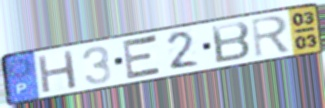2: (165, 29, 201, 74)
3: (81, 45, 112, 85)
B: (209, 20, 253, 66)
E: (121, 33, 164, 82)
H: (36, 48, 80, 96)
R: (249, 14, 293, 60)
